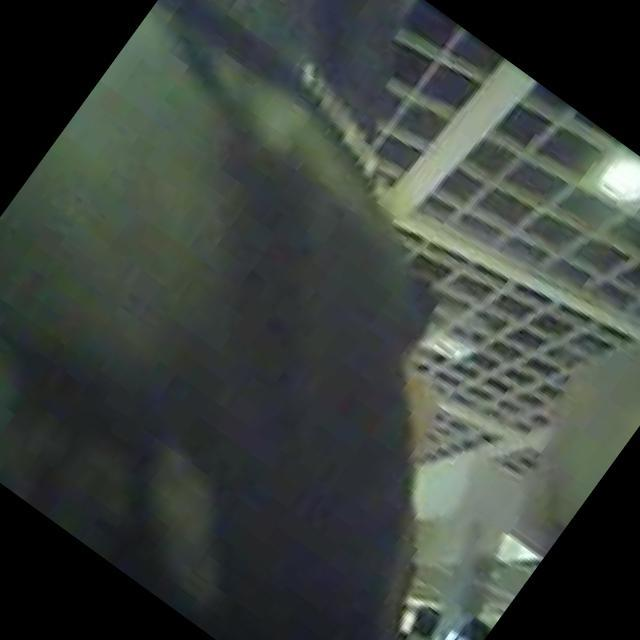person: (469, 188, 640, 543)
